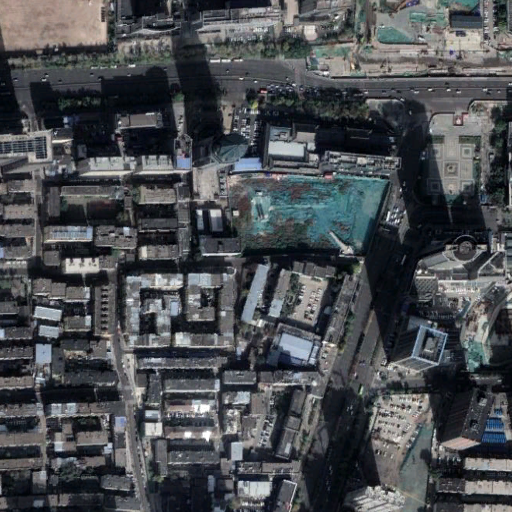cw: (230, 172, 388, 257)
